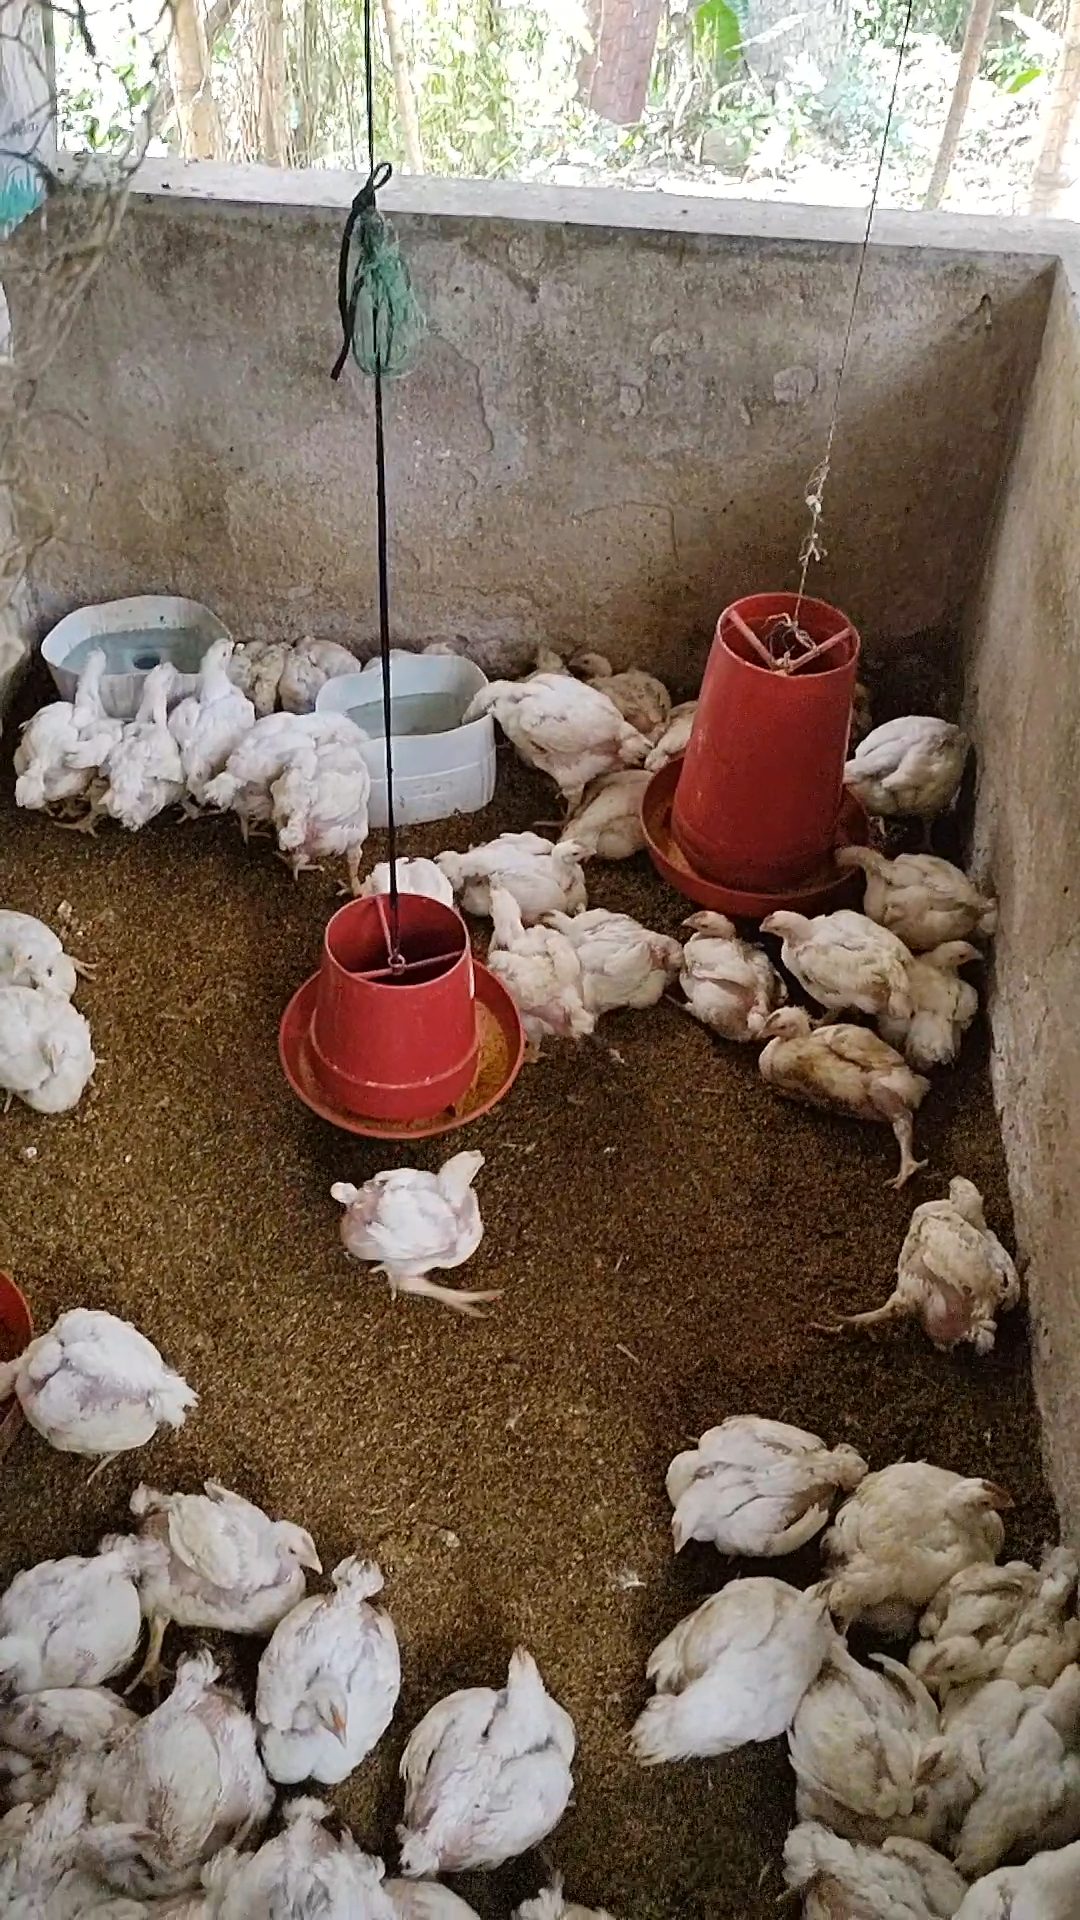Pollos: (386, 1642, 584, 1876), (104, 1655, 276, 1879), (634, 1573, 833, 1764), (256, 1561, 411, 1785), (825, 1451, 1038, 1607), (0, 1298, 200, 1462), (800, 1635, 952, 1851), (655, 1415, 872, 1561), (135, 1476, 324, 1635), (927, 1672, 1080, 1865), (902, 1536, 1080, 1697), (0, 1528, 158, 1695), (891, 1168, 1021, 1360), (462, 669, 646, 802), (328, 1139, 495, 1287), (218, 1778, 389, 1920), (748, 1004, 932, 1130), (775, 1804, 963, 1920), (477, 877, 587, 1067), (529, 898, 684, 1029), (196, 705, 371, 812), (262, 735, 375, 893), (837, 705, 972, 829), (92, 659, 187, 833), (836, 840, 992, 945), (18, 642, 107, 827), (760, 905, 910, 1011), (675, 898, 785, 1042), (166, 637, 251, 818), (0, 992, 105, 1120), (455, 824, 593, 920), (889, 940, 996, 1062), (555, 760, 669, 870), (0, 905, 100, 1004), (568, 642, 671, 735)
